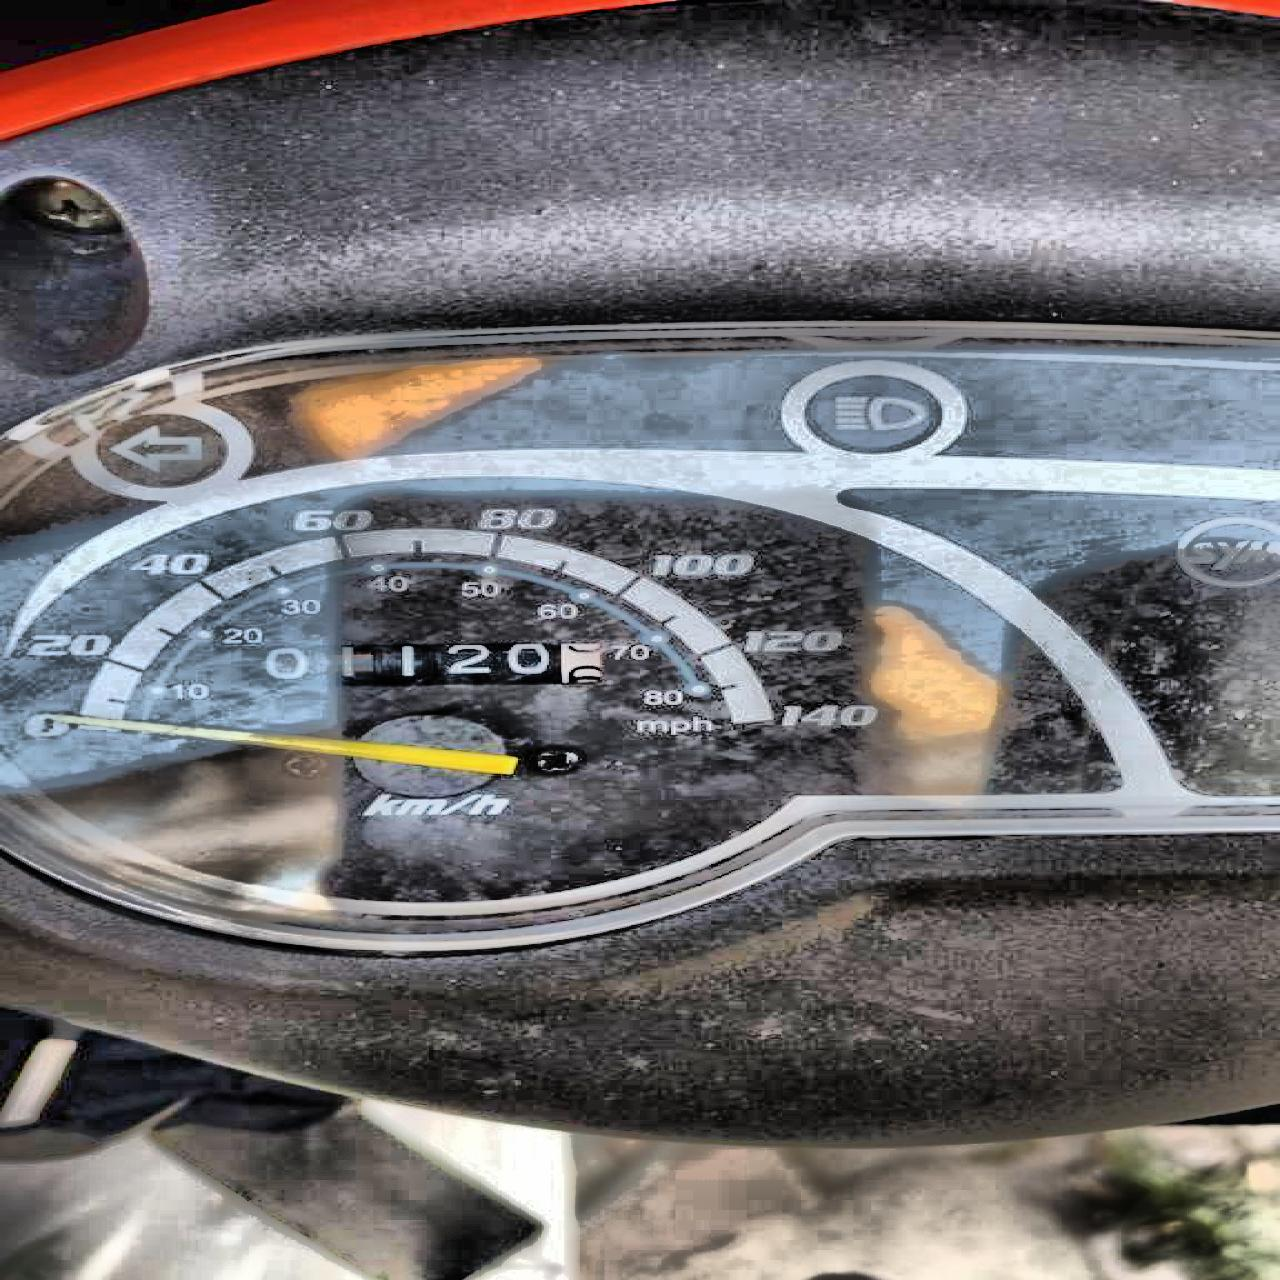0: (260, 645, 307, 681), (502, 642, 551, 674)
1: (327, 642, 367, 679), (387, 642, 422, 678)
2: (437, 641, 491, 675)
6: (560, 661, 602, 683)
odometer: (225, 639, 611, 693)
